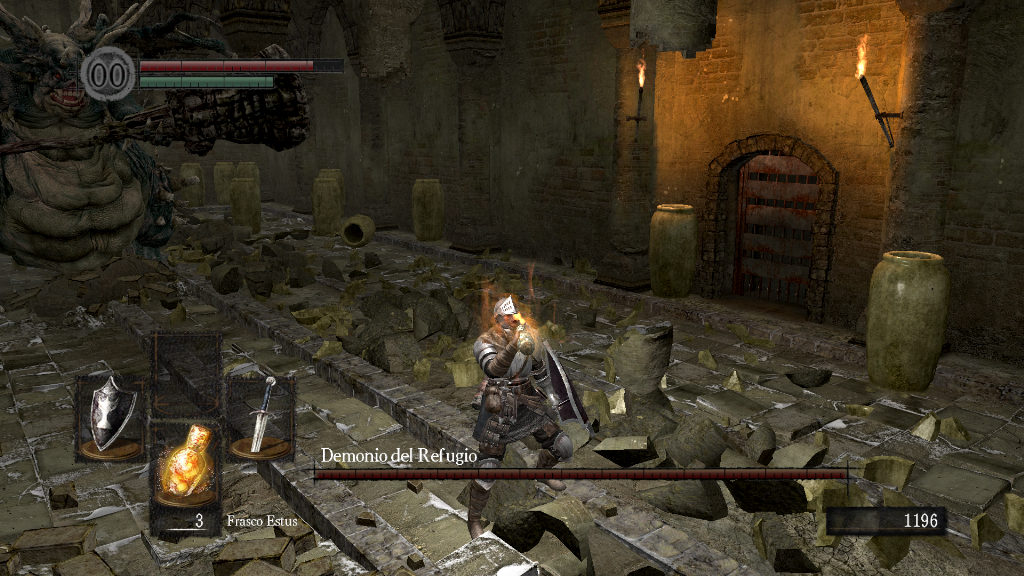asylumDemon: (1, 1, 311, 276)
bossHP: (314, 469, 847, 479)
health: (138, 58, 343, 71)
humanity: (80, 45, 136, 102)
player: (465, 294, 593, 546)
souls: (825, 506, 945, 536)
stamina: (138, 74, 274, 88)
